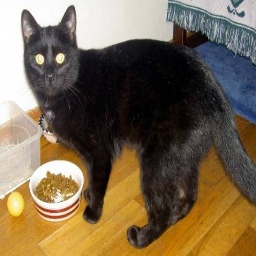cat: (15, 2, 256, 248)
